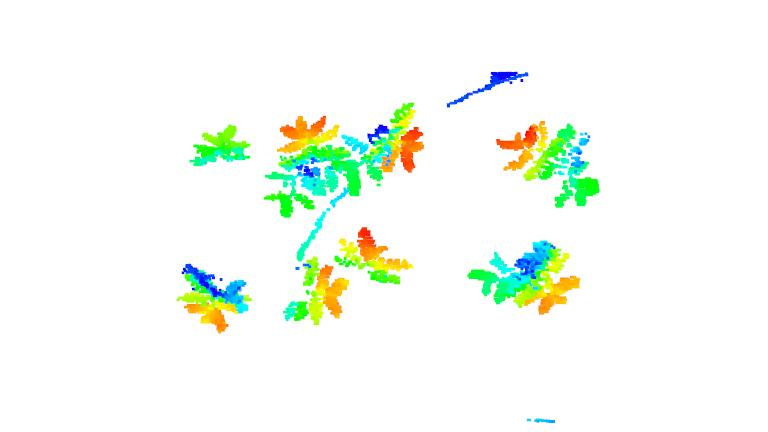chickpea: (496, 120, 597, 209), (470, 237, 579, 314), (265, 114, 344, 215), (342, 98, 423, 184), (174, 261, 251, 332), (331, 227, 412, 286), (282, 257, 351, 326), (190, 120, 249, 170)
